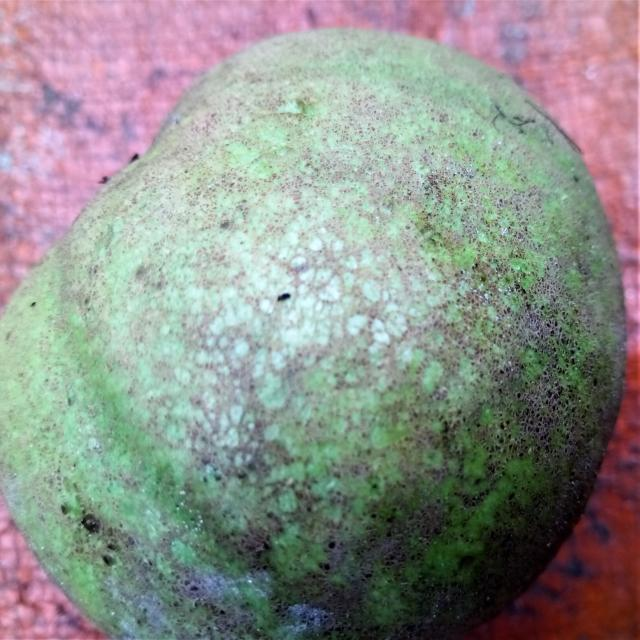Scab: (0, 29, 625, 637)
